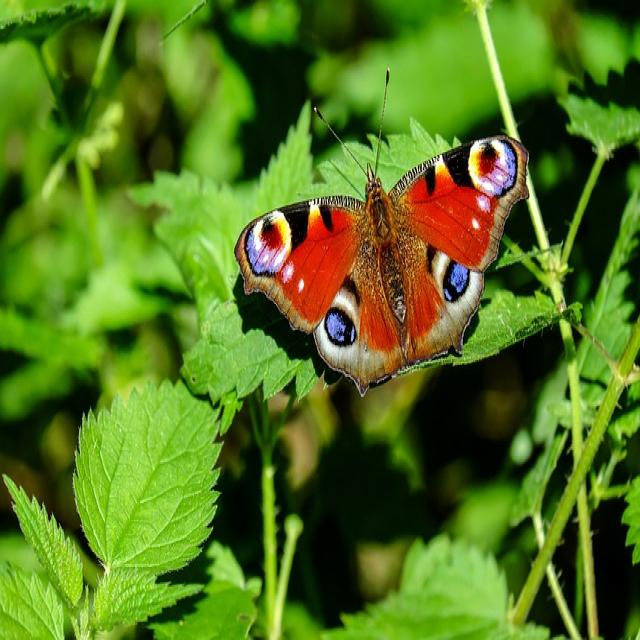butterfly: (235, 137, 528, 392)
